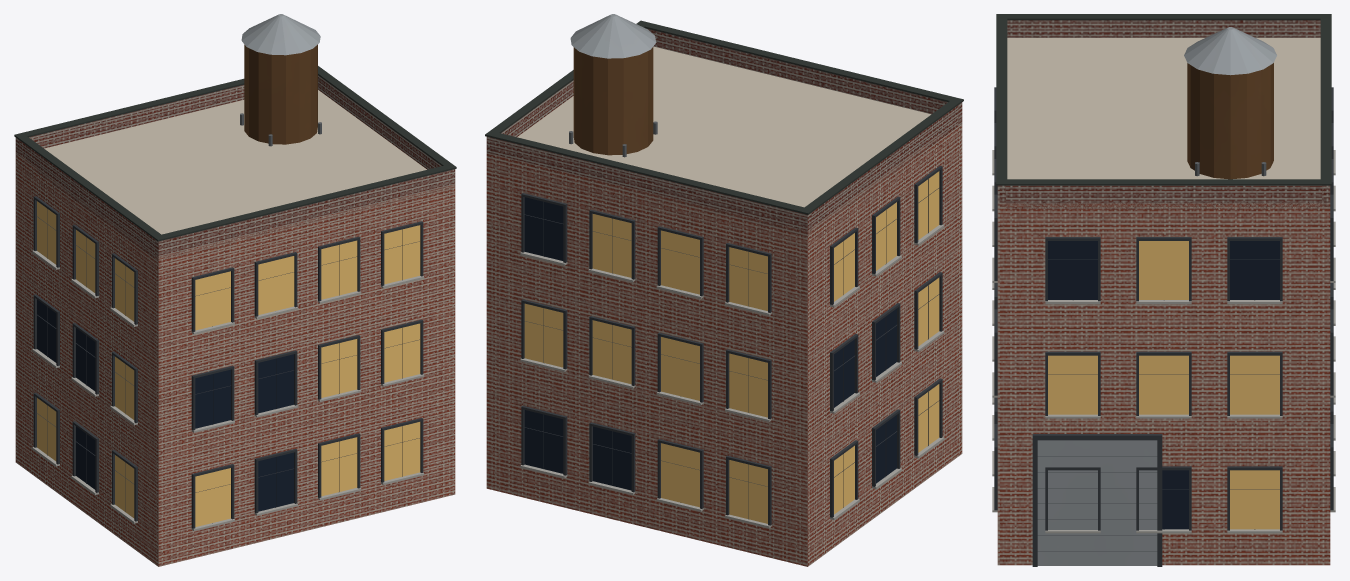
The model's file is pv_budova_cihlova.glb.
The picture shows the model from 3 angles, left to right: view 1: azimuth 30°, elevation 25°; view 2: azimuth 150°, elevation 25°; view 3: azimuth 270°, elevation 25°; orthographic projection. The views are drawn at different scales.
Visible parts, largest first — view 1: dum, noc; view 2: dum, noc; view 3: dum, noc.
Boxes of the visible parts, x1,y1,x2,y2 form: dum: (14,14,456,566); noc: (37,201,420,526); dum: (485,14,963,566); noc: (524,171,939,523); dum: (992,14,1335,566); noc: (1048,241,1279,529).
Bounding box in the file's own units: 12.29 × 16.36 × 10.29.
Materials: 1 (1 with a texture image).
